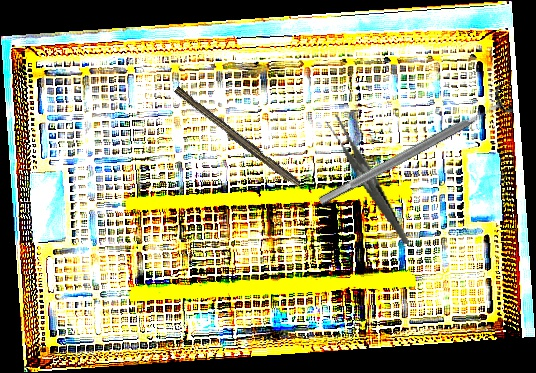Dressing Forceps: (324, 104, 409, 256)
Fixation Ring: (312, 83, 515, 217)
Scalpel Handle: (171, 86, 303, 190)
